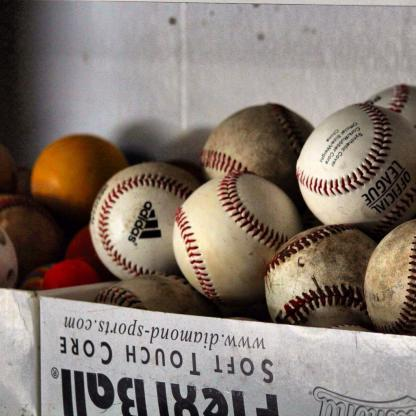Ball: (172, 170, 303, 309), (294, 106, 416, 228), (90, 165, 198, 282), (266, 219, 375, 328), (198, 103, 313, 200), (33, 137, 127, 210), (360, 216, 415, 333), (96, 278, 198, 320), (368, 82, 416, 122), (41, 261, 97, 286)
